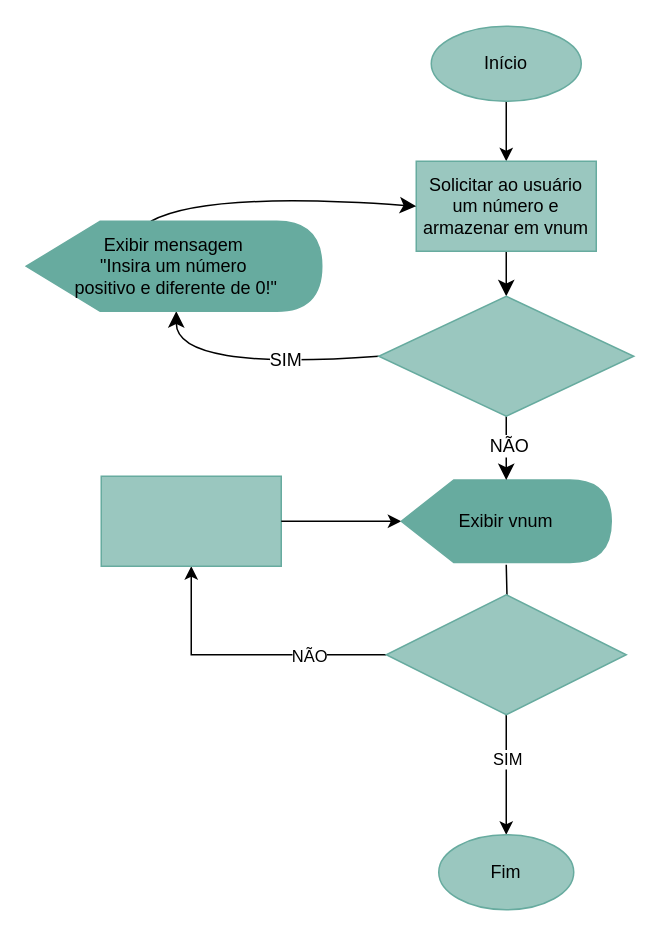
The diagram is 660 pixels wide and 936 high, and some of its shapes have lost their labels. The centre of each missing label's shape, as x and y in pixels:
"vnum <= 0" belongs at (x=505, y=355).
"vnum = vnum - 1" belongs at (x=190, y=520).
"vnum == 0 ?" belongs at (x=505, y=654).
